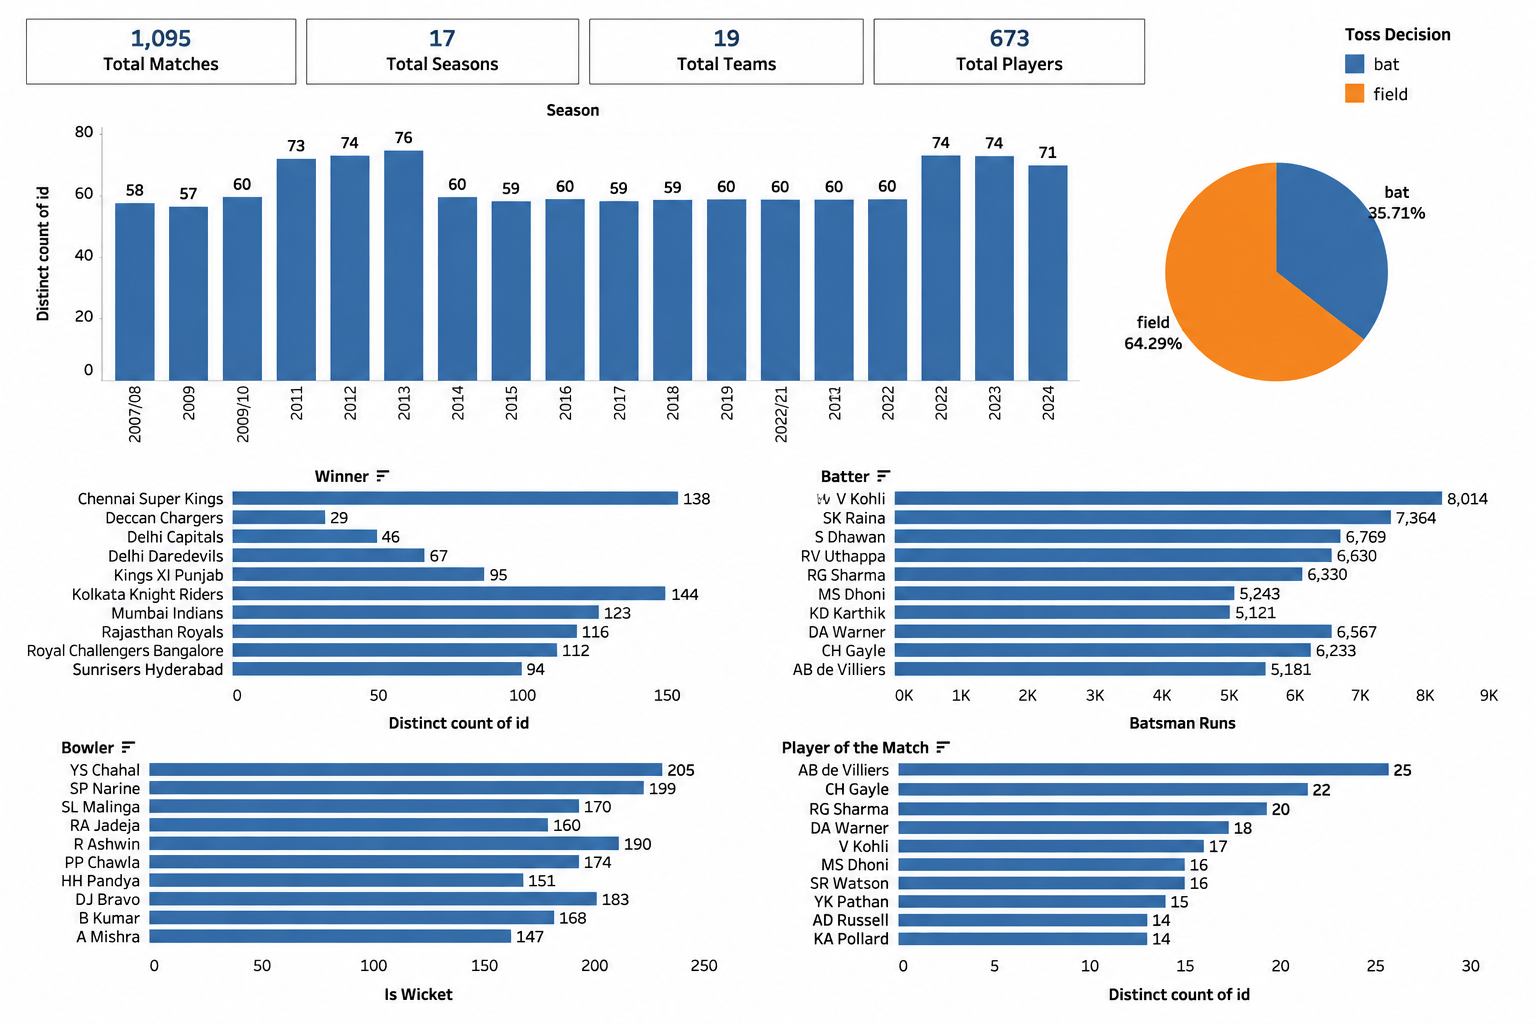

What the dashboard file says about the page in this screenshot:
{"tool":"tableau","page":{"name":"IPL Analytics Dashboard","canvas":[1000,800],"ordinal":0},"visuals":[{"type":"worksheet","title":"KPI - Total Matches","mark":"Automatic","box":[8,8,186.3,52.2]},{"type":"worksheet","title":"KPI - Total Seasons","mark":"Automatic","box":[194.3,8,205.9,52.2]},{"type":"worksheet","title":"KPI - Total Teams","mark":"Automatic","box":[400.2,8,197.7,52.2]},{"type":"worksheet","title":"KPI - Total Players","mark":"Automatic","box":[597.9,8,214.1,52.2]},{"type":"legend","title":"Toss Decision Analysis","param":"[federated.1cnh35z09fwfck1fl35z10kuj01t].[none:toss_decision:nk]","box":[822,18,160,66]},{"type":"worksheet","title":"Matches by Season","mark":"Bar","rows":["id"],"cols":["season"],"box":[8,60.2,590.3,326.8]},{"type":"worksheet","title":"Toss Decision Analysis","mark":"Pie","box":[598.3,60.2,213.7,326.8]},{"type":"worksheet","title":"Top 10 Teams by Wins","mark":"Automatic","rows":["winner"],"cols":["id"],"box":[8,387,492,209]},{"type":"worksheet","title":"Top 10 Run Scorers","mark":"Automatic","rows":["batter"],"cols":["batsman_runs"],"box":[500,387,492,209]},{"type":"worksheet","title":"Top 10 Wicket Takers","mark":"Automatic","rows":["bowler"],"cols":["is_wicket"],"box":[8,596,492,196]},{"type":"worksheet","title":"Top 10 Player of the Match Awards","mark":"Automatic","rows":["player_of_match"],"cols":["id"],"box":[500,596,492,196]}]}

Visuals, with their boxes on the page's 1000x800 design canvas (x1, y1, x2, y2). These are canvas units, not pixel positions in the 1536x1024 screenshot, which may show the page scaled, cropped or inside an application window:
"KPI - Total Matches" worksheet: [8,8,194,60]
"KPI - Total Seasons" worksheet: [194,8,400,60]
"KPI - Total Teams" worksheet: [400,8,598,60]
"KPI - Total Players" worksheet: [598,8,812,60]
"Toss Decision Analysis" legend: [822,18,982,84]
"Matches by Season" worksheet (Bar marks): [8,60,598,387]
"Toss Decision Analysis" worksheet (Pie marks): [598,60,812,387]
"Top 10 Teams by Wins" worksheet: [8,387,500,596]
"Top 10 Run Scorers" worksheet: [500,387,992,596]
"Top 10 Wicket Takers" worksheet: [8,596,500,792]
"Top 10 Player of the Match Awards" worksheet: [500,596,992,792]
